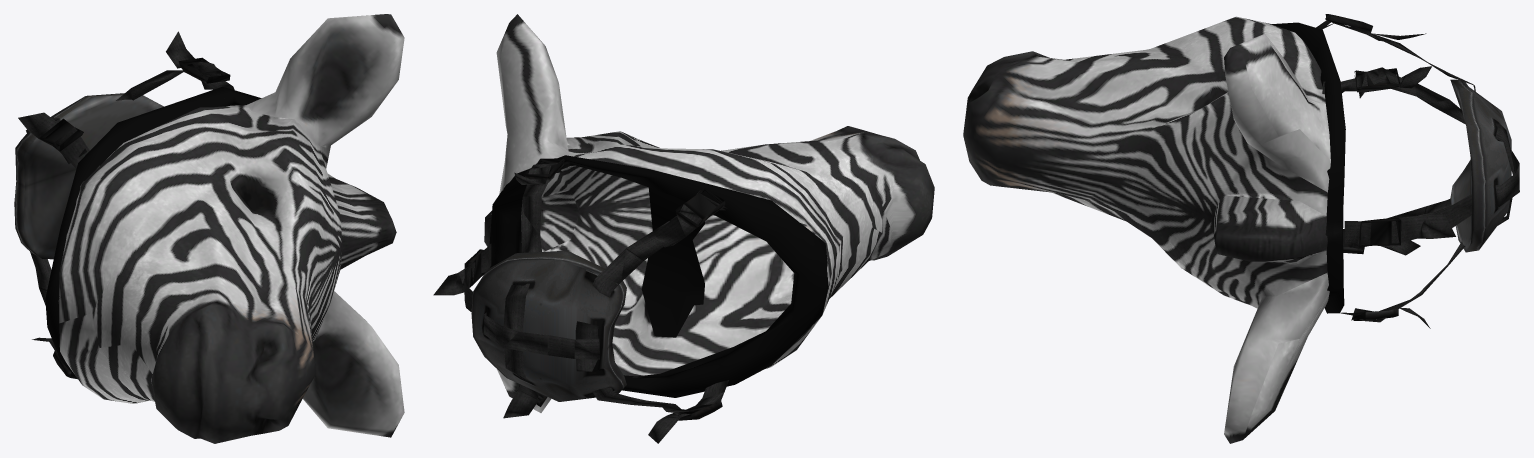
Rendered from F_ZebraMask.fbx.
The picture shows the model from 3 angles, left to right: view 1: azimuth 30°, elevation 25°; view 2: azimuth 150°, elevation 25°; view 3: azimuth 270°, elevation 25°; orthographic projection. The views are drawn at different scales.
Parts seen in each view (by area): view 1: ZebraMask.001; view 2: ZebraMask.001; view 3: ZebraMask.001.
Part boxes in pixels (x1,y1,x2,y2): ZebraMask.001: [14, 14, 404, 443]; ZebraMask.001: [433, 14, 934, 443]; ZebraMask.001: [963, 14, 1519, 443].
Bounding box in the file's own units: 0.1752 × 0.1979 × 0.2522.
